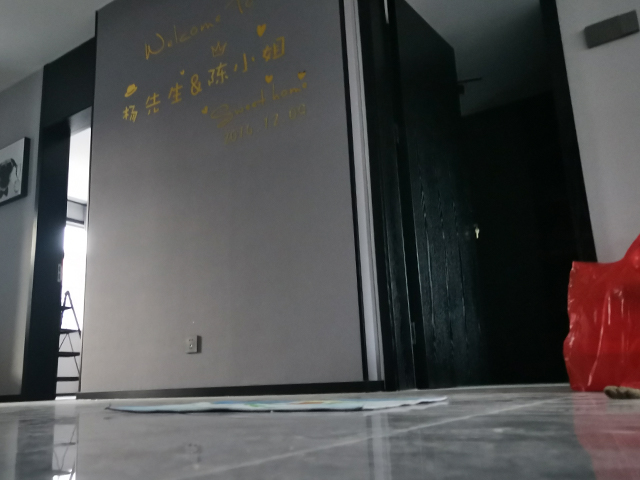carpet: (101, 394, 451, 415)
feces: (603, 385, 640, 400)
